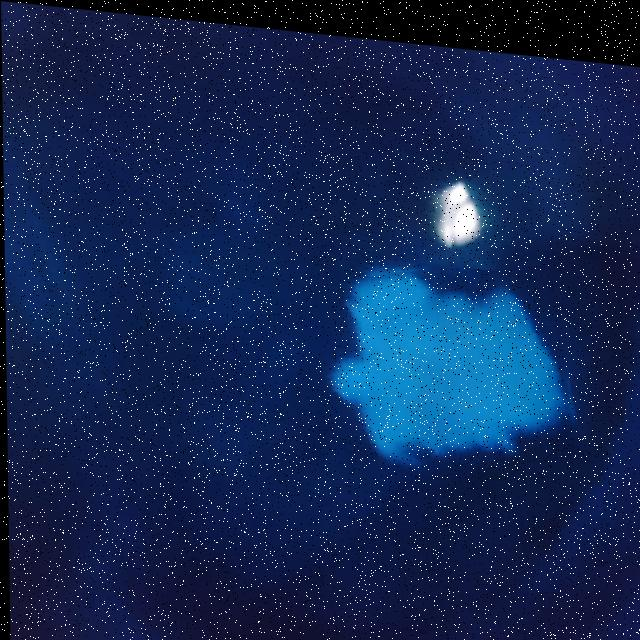litter: (319, 245, 576, 485)
